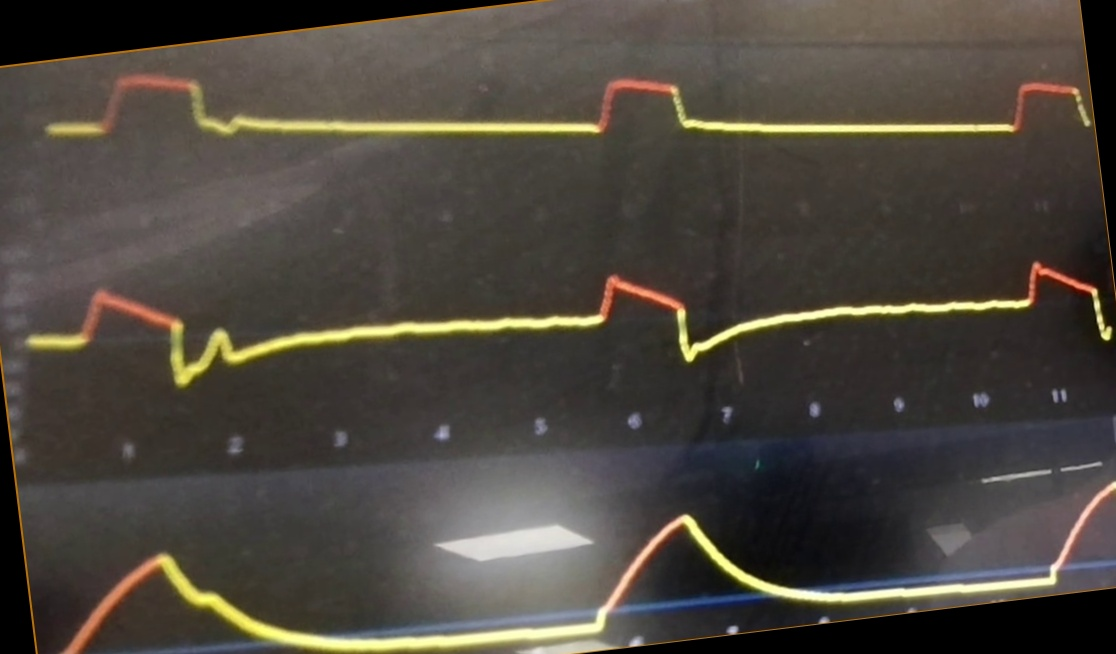Premature_cycling Flow: (31, 246, 1113, 389)
Premature_cycling Volume: (50, 478, 1116, 649)
